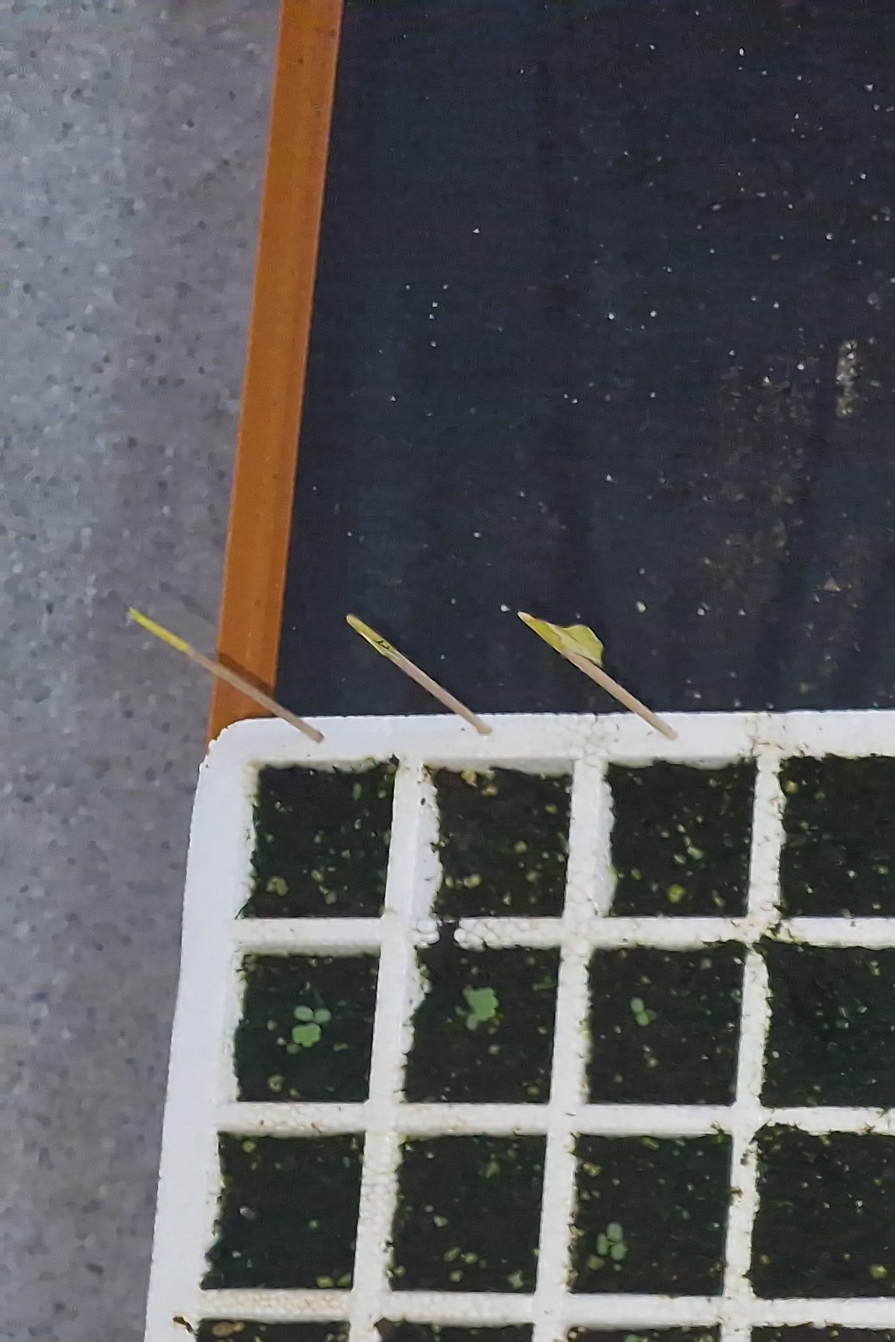Folha: (465, 989, 498, 1020), (293, 1023, 320, 1048), (596, 1233, 613, 1255), (608, 1224, 623, 1242), (294, 1007, 313, 1021), (314, 1009, 330, 1023), (630, 997, 644, 1012), (612, 1244, 625, 1259), (636, 1011, 649, 1025)
Germinacao: (293, 1006, 331, 1047), (597, 1223, 625, 1260), (465, 989, 498, 1020), (631, 997, 649, 1025)
